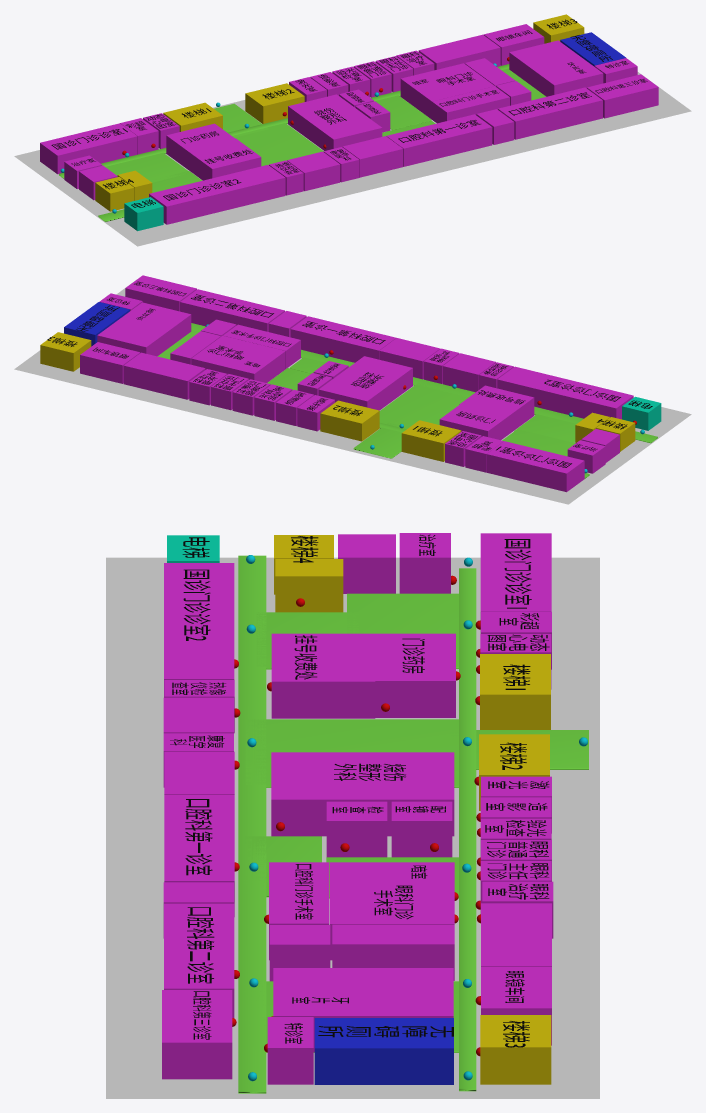
The picture shows the model from 3 angles, top to bottom: view 1: azimuth 30°, elevation 25°; view 2: azimuth 150°, elevation 25°; view 3: azimuth 270°, elevation 25°; orthographic projection. The views are drawn at different scales.
Parts seen in each view (by area): view 1: 平面, 立方体.009, 立方体.010, 立方体.006, 立方体.008, 立方体.019, 立方体.044, 立方体.013, 立方体.004, 立方体.031, 立方体.050, 立方体.055 (+34 smaller); view 2: 平面, 立方体.009, 立方体.044, 立方体.006, 立方体.010, 立方体.008, 立方体.013, 立方体.031, 立方体.019, 立方体.055, 立方体.027, 立方体.004 (+35 smaller); view 3: 平面, 立方体.032, 立方体.006, 立方体.023, 立方体.033, 立方体.010, 立方体.004, 立方体.031, 立方体.009, 立方体.013, 立方体.045, 立方体.050 (+40 smaller).
Boxes of the visible parts, left/top/right/bottom form: 平面: left=14, top=33, right=691, bottom=246; 立方体.009: left=149, top=165, right=285, bottom=224; 立方体.010: left=509, top=40, right=603, bottom=96; 立方体.006: left=288, top=94, right=382, bottom=150; 立方体.008: left=386, top=114, right=492, bottom=166; 立方体.019: left=498, top=87, right=602, bottom=139; 立方体.044: left=40, top=123, right=137, bottom=174; 立方体.013: left=400, top=63, right=494, bottom=119; 立方体.004: left=186, top=138, right=261, bottom=180; 立方体.031: left=234, top=123, right=323, bottom=166; 立方体.050: left=587, top=74, right=658, bottom=118; 立方体.055: left=418, top=34, right=500, bottom=70; 平面: left=14, top=279, right=691, bottom=504; 立方体.009: left=497, top=366, right=633, bottom=419; 立方体.044: left=486, top=441, right=584, bottom=492; 立方体.006: left=318, top=356, right=412, bottom=410; 立方体.010: left=97, top=302, right=191, bottom=356; 立方体.008: left=290, top=316, right=396, bottom=362; 立方体.013: left=191, top=335, right=285, bottom=382; 立方体.031: left=379, top=381, right=473, bottom=429; 立方体.019: left=180, top=289, right=284, bottom=331; 立方体.055: left=123, top=352, right=205, bottom=399; 立方体.027: left=320, top=400, right=379, bottom=441; 立方体.004: left=459, top=385, right=534, bottom=434; 平面: left=106, top=557, right=599, bottom=1098; 立方体.032: left=238, top=555, right=266, bottom=1093; 立方体.006: left=271, top=752, right=454, bottom=836; 立方体.023: left=314, top=1018, right=453, bottom=1084; 立方体.033: left=459, top=568, right=476, bottom=1091; 立方体.010: left=273, top=968, right=453, bottom=1052; 立方体.004: left=271, top=633, right=375, bottom=718; 立方体.031: left=245, top=719, right=458, bottom=787; 立方体.009: left=164, top=563, right=234, bottom=697; 立方体.013: left=329, top=862, right=454, bottom=960; 立方体.045: left=375, top=633, right=455, bottom=717; 立方体.050: left=162, top=990, right=232, bottom=1079.
Bounding box in the file's own units: 20.4 × 0.6881 × 7.87.
